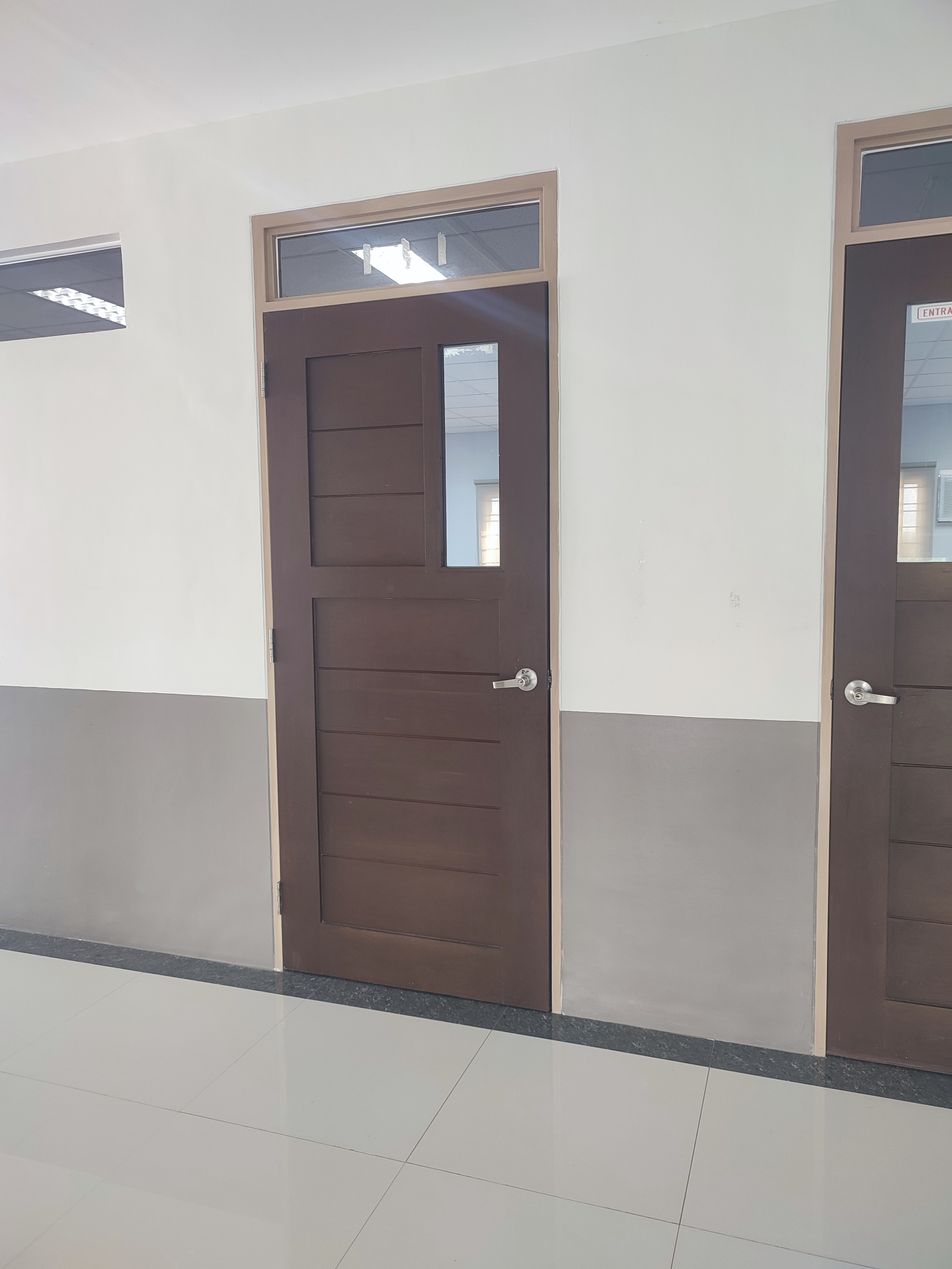door: (245, 172, 559, 1017), (811, 106, 952, 1079)
